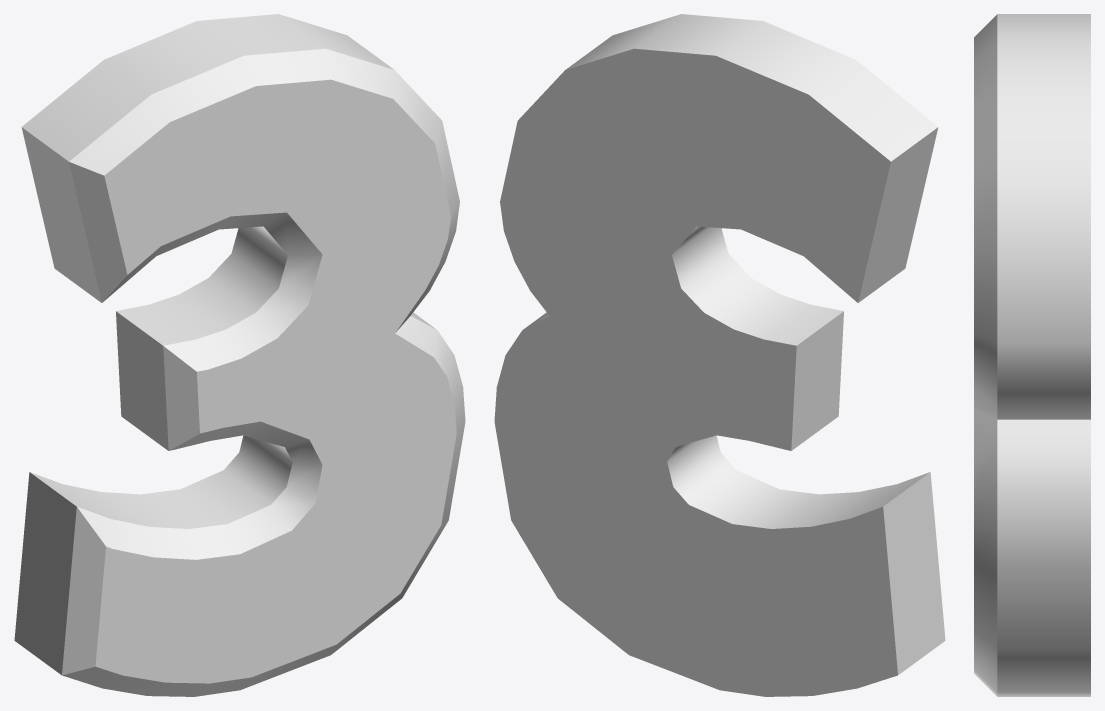
File: LettersStylized01_3.FBX
3 renders of one model, left to right at view 1: azimuth 30°, elevation 25°; view 2: azimuth 150°, elevation 25°; view 3: azimuth 270°, elevation 25°, orthographic.
Parts seen in each view (by area): view 1: LettersStylized01_3; view 2: LettersStylized01_3; view 3: LettersStylized01_3.
Part boxes in pixels (x1,y1,x2,y2): LettersStylized01_3: (14,14,465,696); LettersStylized01_3: (494,14,945,696); LettersStylized01_3: (974,14,1090,696).
Size of what is drawn, in the model's own units: 0.3264 by 0.4895 by 0.083.
